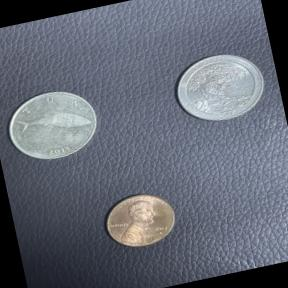coin: (162, 41, 276, 136), (0, 79, 108, 172), (93, 179, 188, 258)
